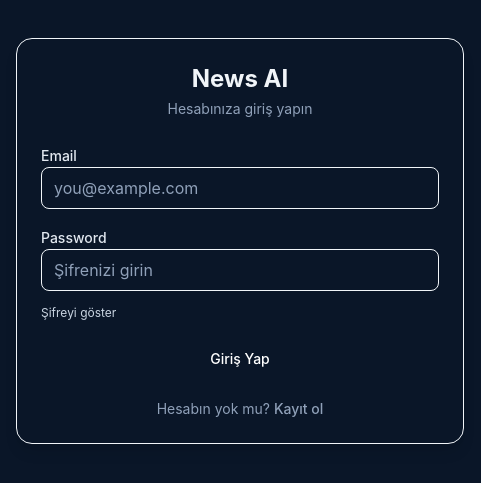
Scenario: shows error for invalid email format
Type "notanemail" into the field labelled "Email" at (240, 188), box [41,167,439,209]
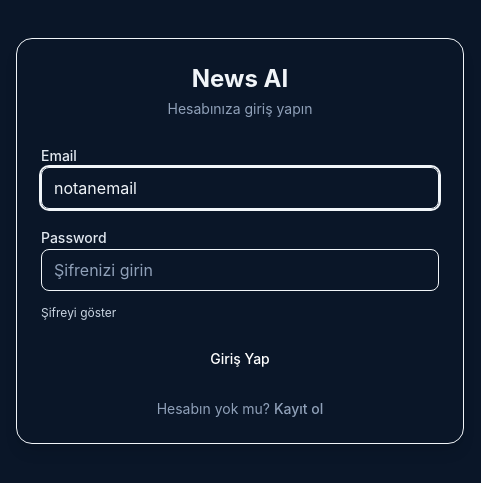
Click the button "Giriş Yap" at (240, 359), box [41,339,439,379]
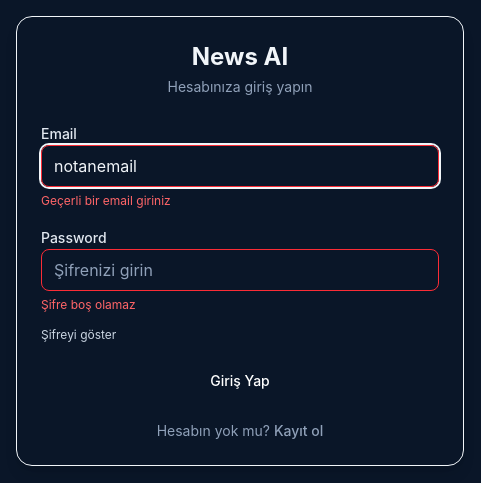
Expected: the text "Geçerli bir email giriniz" is shown, [41,193,171,208]
